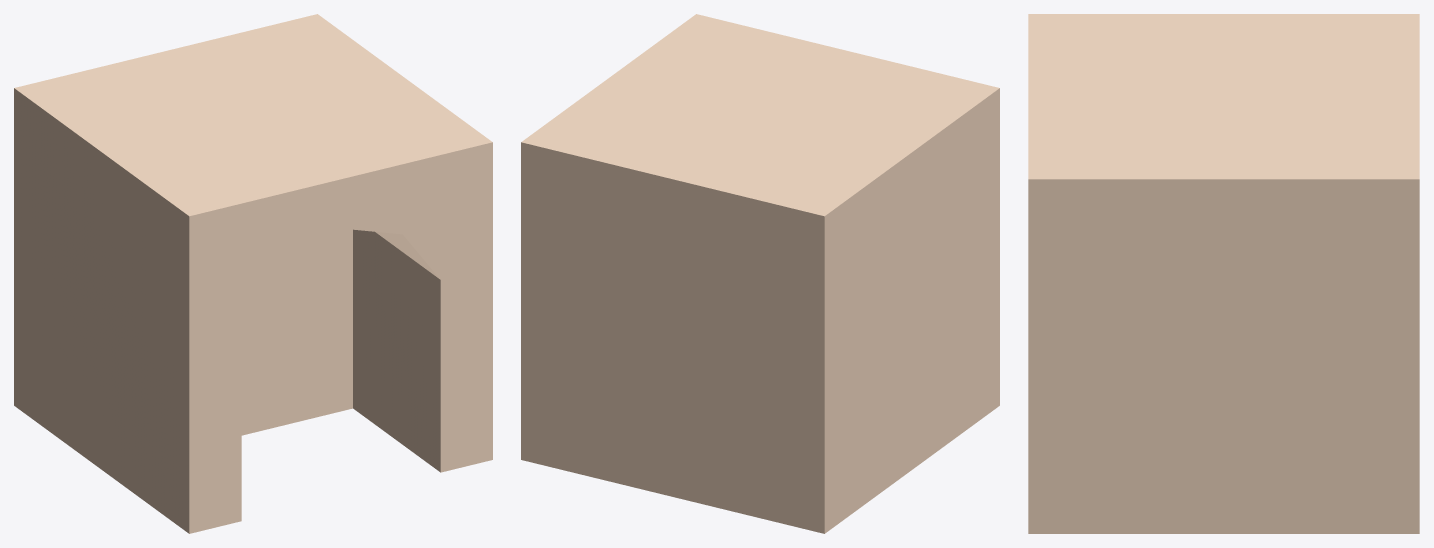
The model's file is Abstract_Castle_Block_Single_ArchLarge_Cream_01.fbx.
3 renders of one model, left to right at view 1: azimuth 30°, elevation 25°; view 2: azimuth 150°, elevation 25°; view 3: azimuth 270°, elevation 25°, orthographic. The views are drawn at different scales.
Visible parts, largest first — view 1: Model; view 2: Model; view 3: Model.
Part boxes in pixels (bbox=[...]): Model: bbox=[14, 14, 492, 533]; Model: bbox=[521, 14, 999, 533]; Model: bbox=[1028, 14, 1419, 533].
Bounding box in the file's own units: 1000 × 1000 × 1000.
